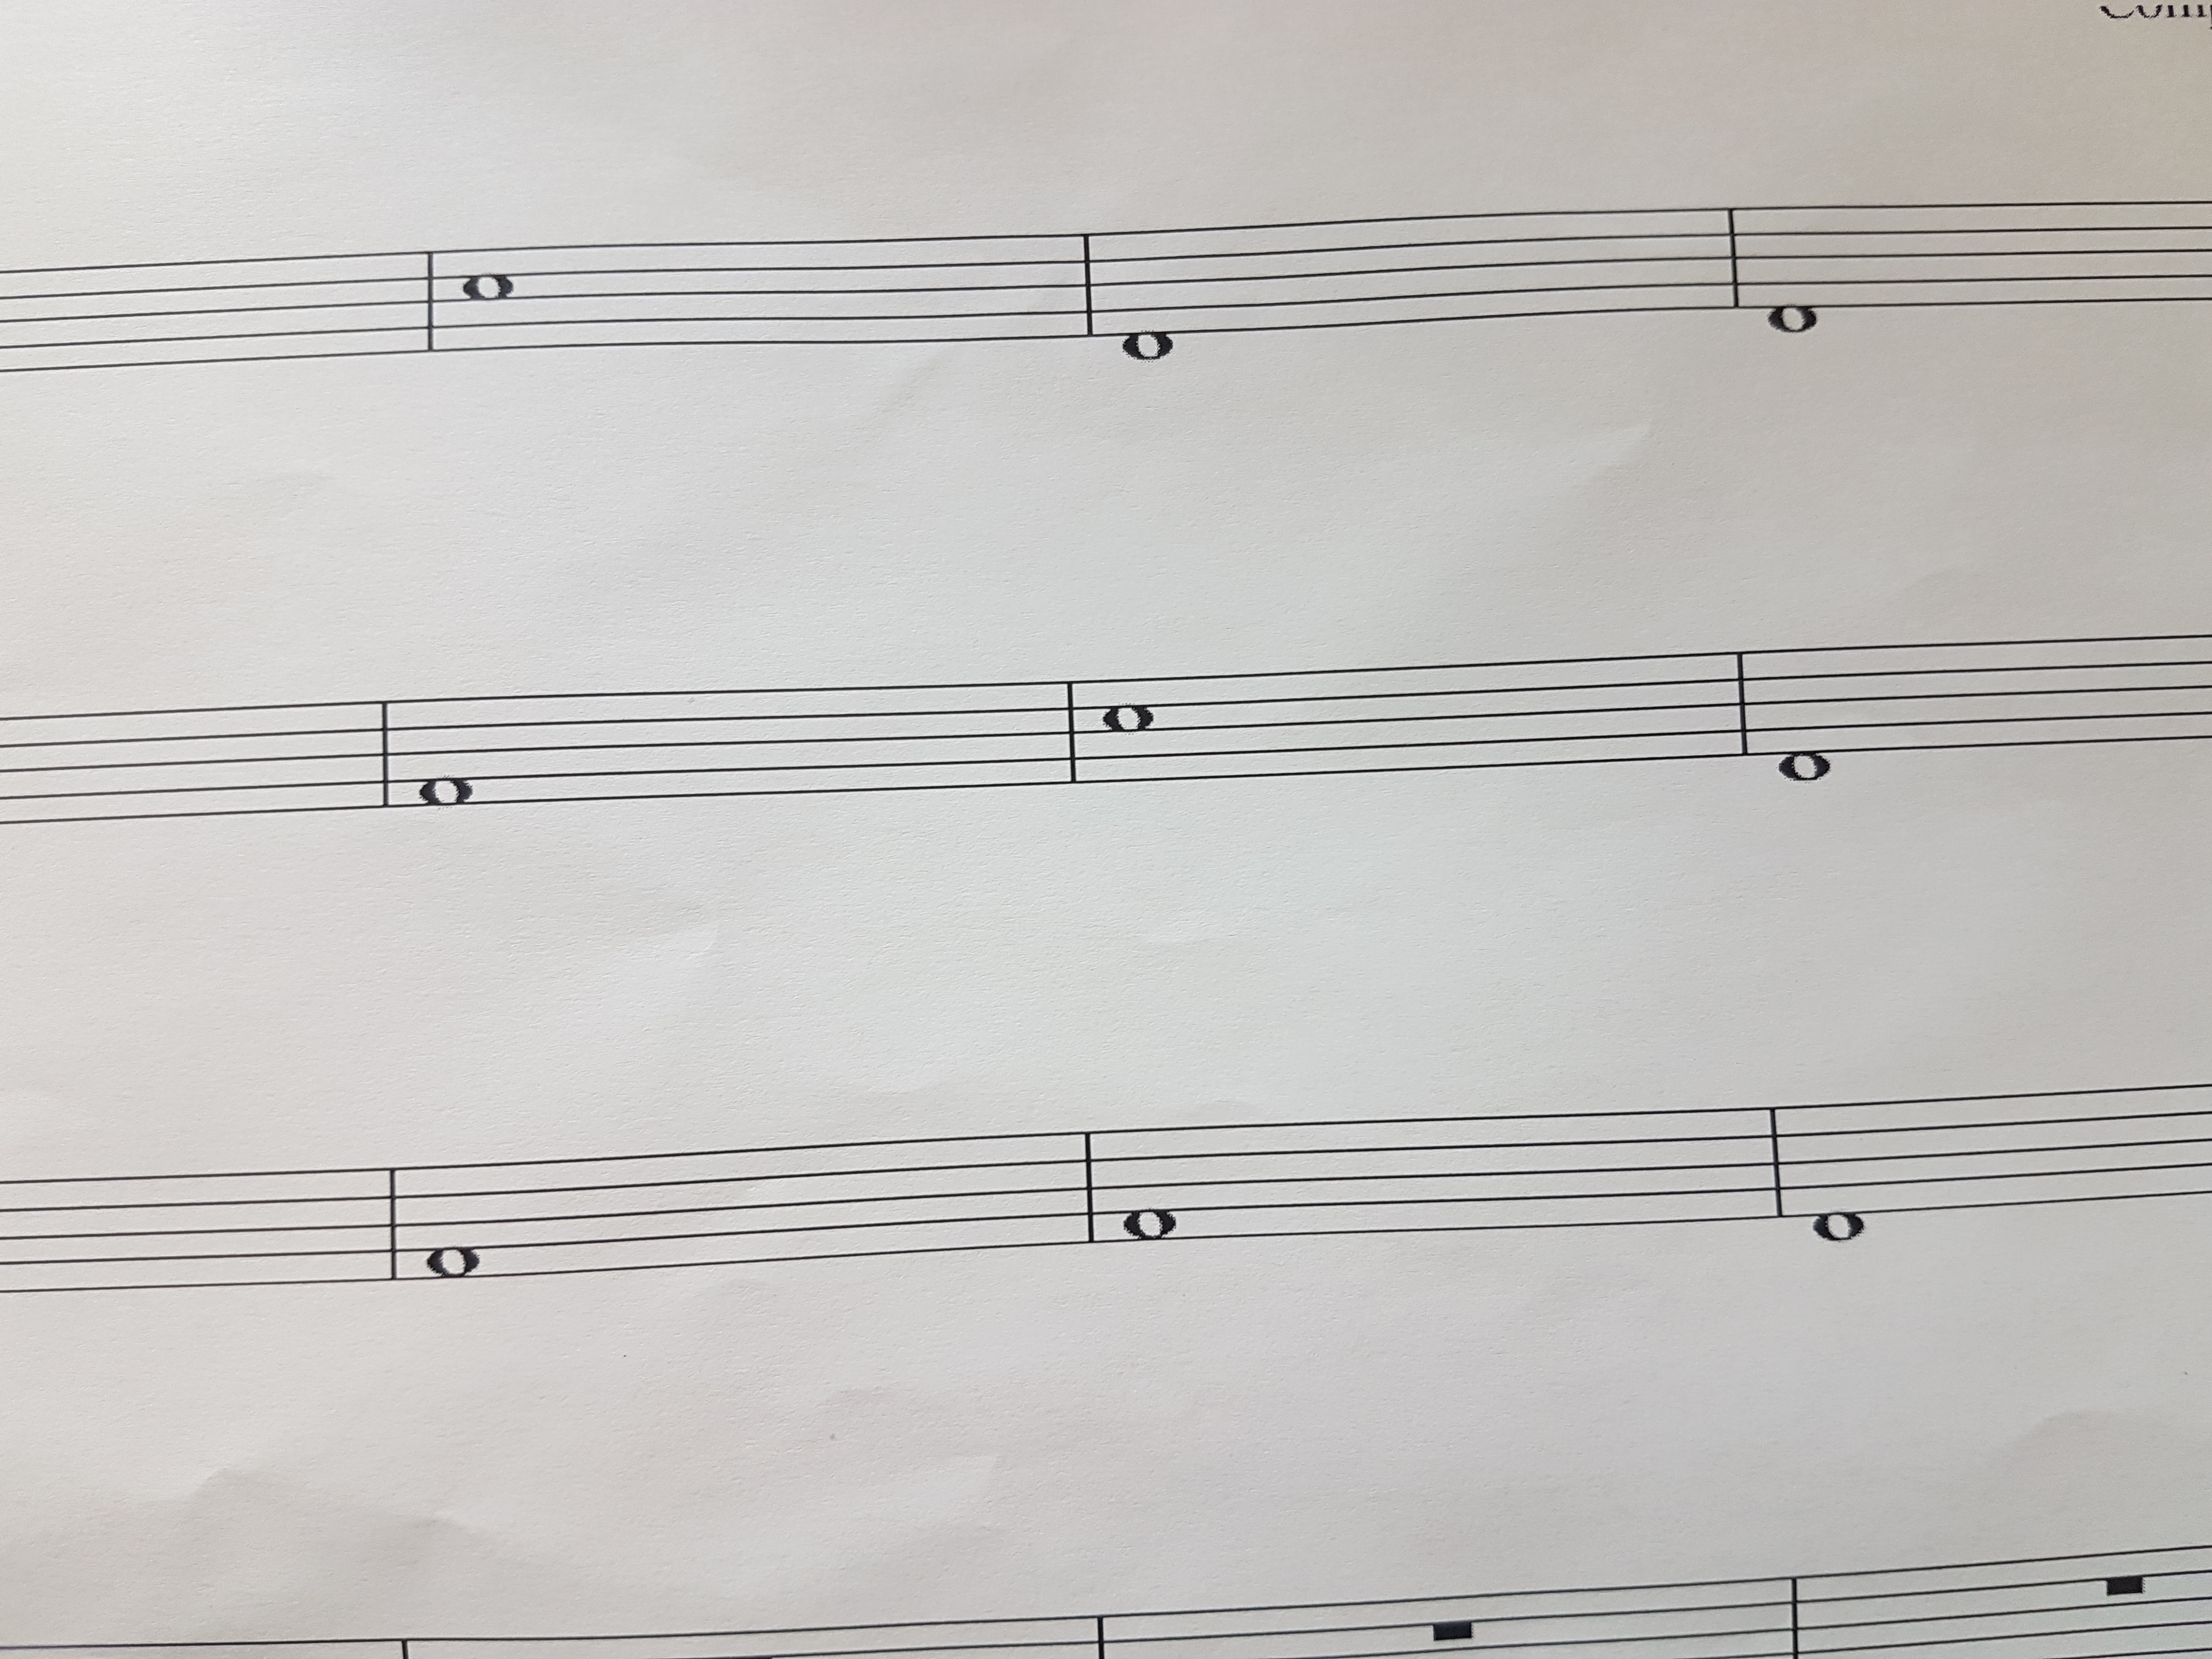pipe: (1071, 1117, 1109, 1263), (371, 1150, 408, 1297), (368, 687, 402, 819), (1761, 1091, 1792, 1232), (1054, 667, 1087, 798), (1719, 192, 1750, 326), (1726, 638, 1757, 770), (413, 239, 442, 364), (1073, 220, 1101, 347)
semibreve_c: (1096, 650, 1162, 802), (455, 223, 521, 369)
semibreve_d: (1108, 195, 1184, 383), (1803, 1075, 1874, 1260), (1770, 622, 1841, 805), (1759, 185, 1825, 354)
semibreve_f: (413, 664, 482, 830), (420, 1136, 486, 1310), (1116, 1103, 1181, 1272)
